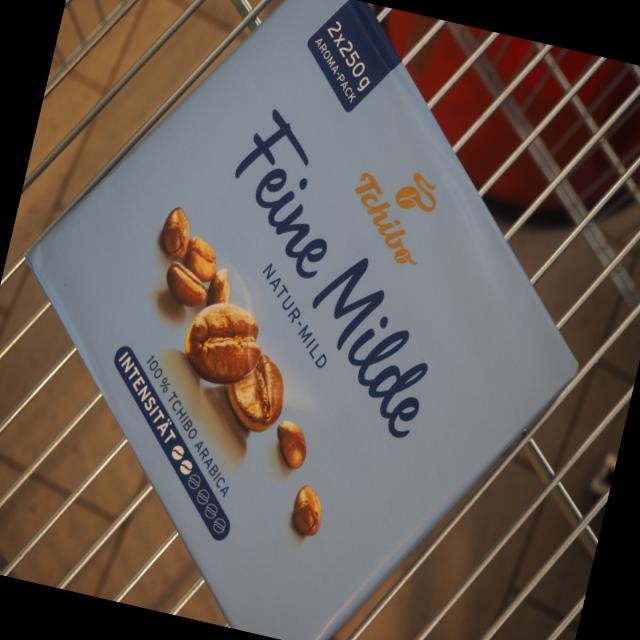FM Gemahlen: (22, 0, 586, 640)
